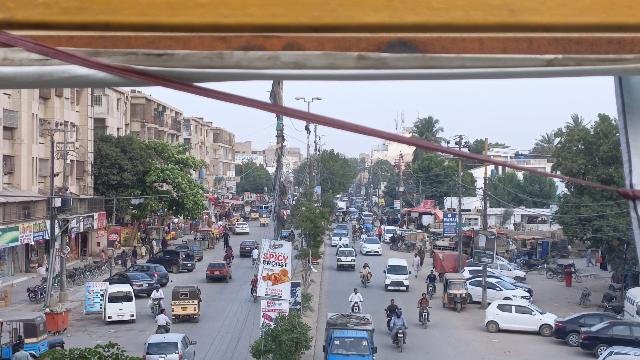Bike: (390, 326, 409, 351), (417, 305, 433, 330), (578, 284, 593, 308), (425, 281, 438, 300), (150, 298, 162, 317), (347, 300, 364, 312), (360, 272, 372, 288), (250, 287, 259, 304), (153, 328, 169, 337), (385, 311, 397, 321), (251, 258, 259, 269), (225, 256, 232, 266)
Car: (483, 298, 556, 337), (579, 320, 640, 354), (466, 276, 531, 305), (554, 311, 609, 345), (140, 334, 197, 360), (148, 247, 198, 275), (101, 270, 154, 294), (128, 261, 169, 284), (203, 258, 232, 283), (360, 236, 382, 256)
Person: (154, 308, 171, 330), (409, 251, 422, 279), (390, 311, 407, 328), (12, 344, 30, 360), (346, 286, 365, 301), (149, 284, 164, 303), (416, 291, 431, 309), (386, 297, 399, 316), (426, 269, 438, 284), (249, 273, 259, 290), (251, 246, 261, 259), (224, 246, 233, 258), (360, 264, 368, 274), (362, 263, 370, 272)
Rickshaw: (0, 314, 49, 359), (171, 284, 203, 325), (441, 274, 469, 314)
Suzuki: (334, 246, 358, 272)
Truck: (320, 309, 380, 360)
Van: (101, 283, 139, 327), (381, 257, 411, 293)
